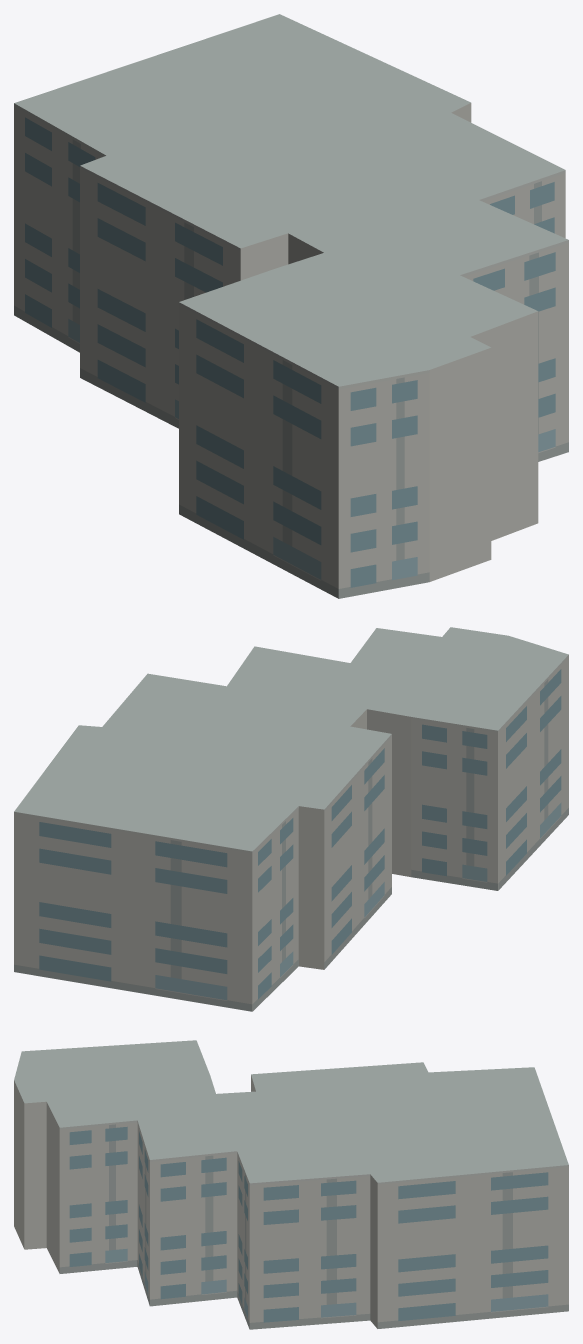
File: residential-217257cb-c27b-45db-83f2-731574708211.glb
3 views of the same model, one above another, from view 1: azimuth 30°, elevation 25°; view 2: azimuth 150°, elevation 25°; view 3: azimuth 270°, elevation 25° (orthographic). The views are drawn at different scales.
Parts seen in each view (by area): view 1: residential-217257cb-c27b-45db-83f2-731574708211.tmp; view 2: residential-217257cb-c27b-45db-83f2-731574708211.tmp; view 3: residential-217257cb-c27b-45db-83f2-731574708211.tmp.
Boxes of the visible parts, x1,y1,x2,y2 form: residential-217257cb-c27b-45db-83f2-731574708211.tmp: [14, 14, 568, 598]; residential-217257cb-c27b-45db-83f2-731574708211.tmp: [14, 627, 568, 1011]; residential-217257cb-c27b-45db-83f2-731574708211.tmp: [14, 1040, 568, 1329].
Bounding box in the file's own units: 38.4 × 18.3 × 62.9.
